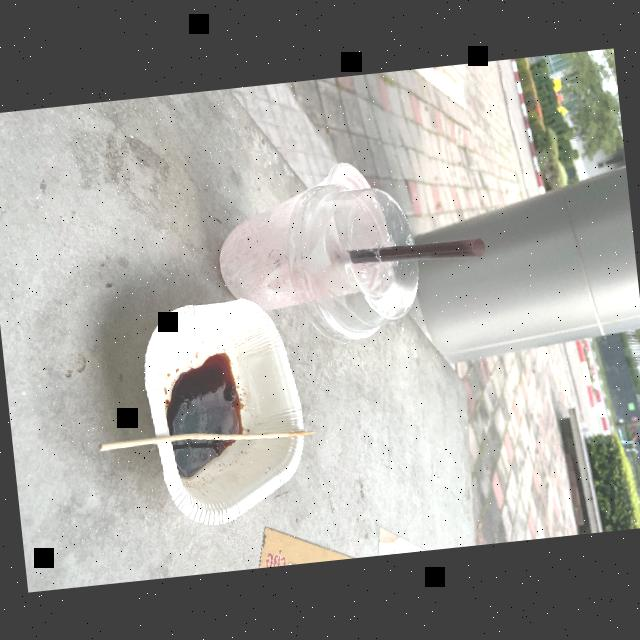cardboard_bowl: (125, 274, 326, 540)
plastic_cup: (209, 150, 390, 325)
plastic_cup_lid: (302, 176, 433, 346)
stick: (92, 425, 309, 461)
straw: (314, 231, 488, 271)
